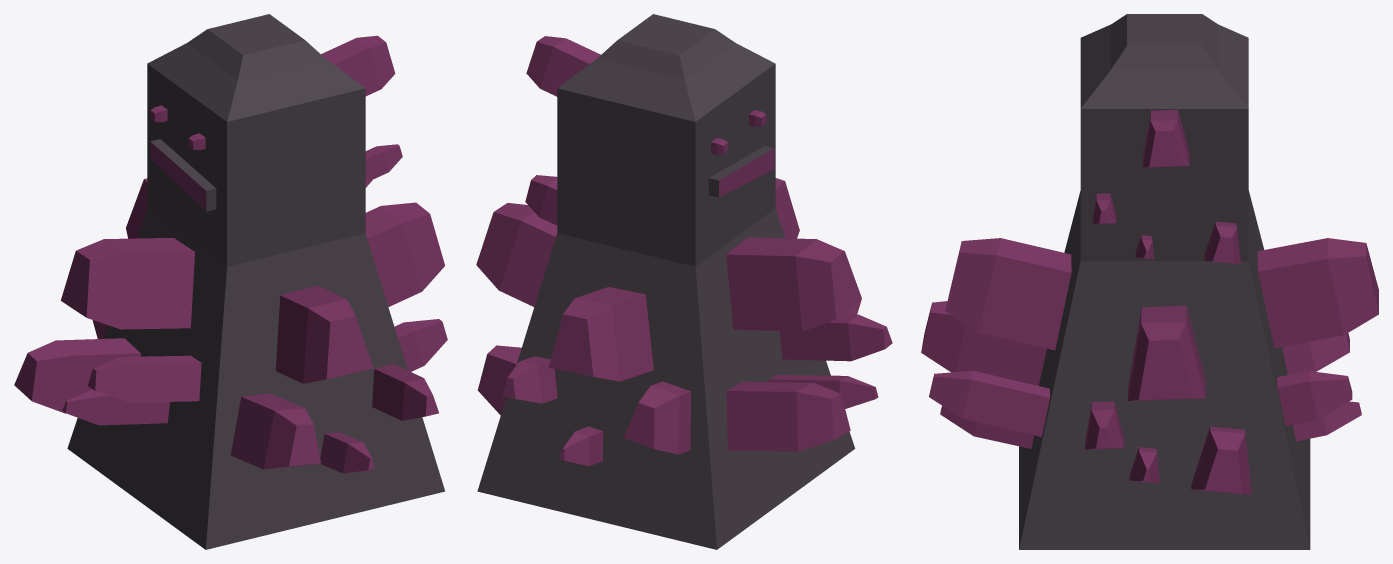
The model's file is Krab3.fbx.
3 views of the same model, side by side, from view 1: azimuth 30°, elevation 25°; view 2: azimuth 150°, elevation 25°; view 3: azimuth 270°, elevation 25° (orthographic). The views are drawn at different scales.
Visible parts, largest first — view 1: Cube.046; view 2: Cube.046; view 3: Cube.046.
Part boxes in pixels (box(x1,y1,x2,y2)): Cube.046: box(14, 14, 447, 549); Cube.046: box(476, 14, 892, 549); Cube.046: box(921, 14, 1378, 549).
Size of the model in its own units: 1.06 by 1.15 by 1.04.
